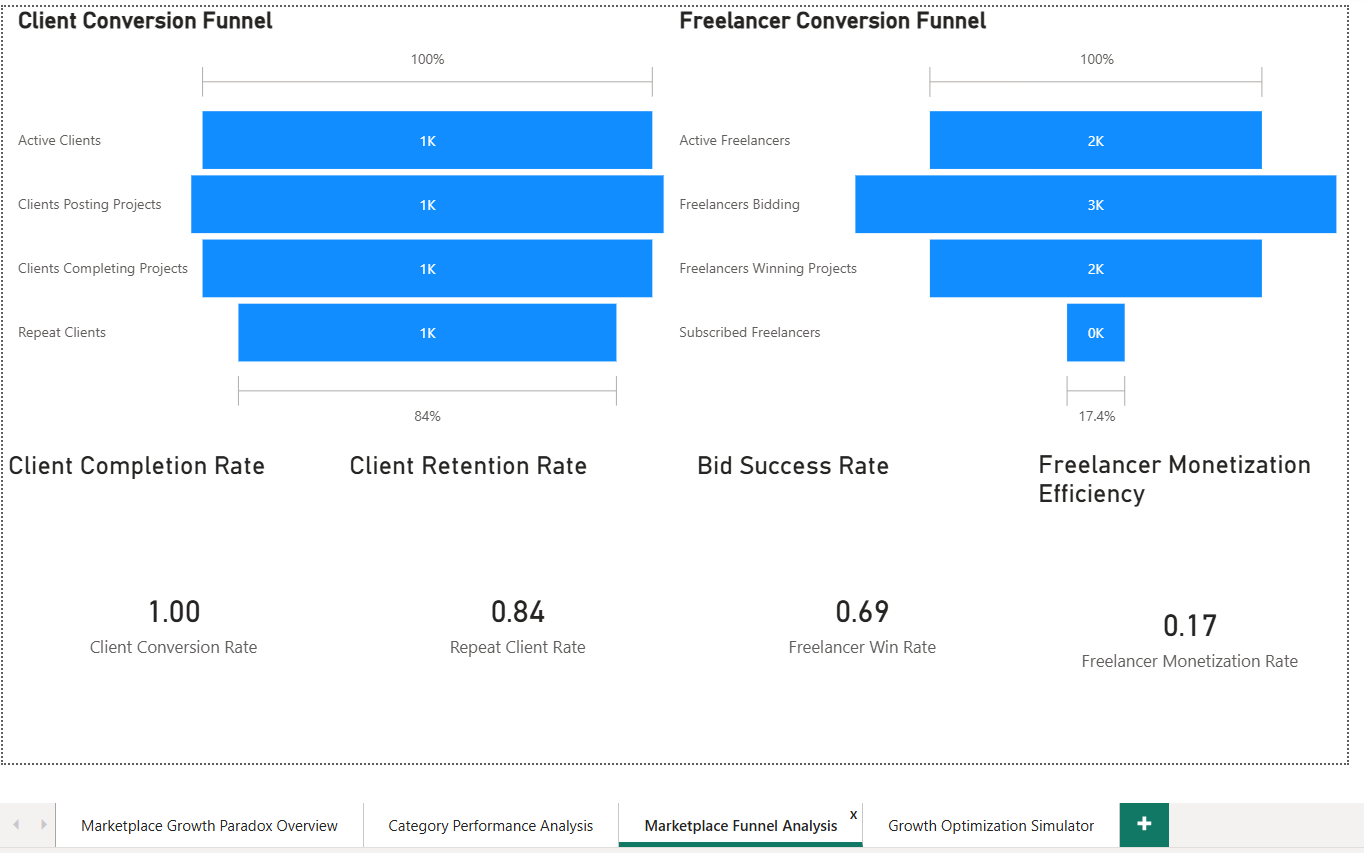

The dashboard page shown, as its layout file describes it:
{"tool":"powerbi","page":{"name":"Marketplace Funnel Analysis","canvas":[1280,720],"ordinal":2},"visuals":[{"type":"funnel","title":"Client Conversion Funnel","fields":{"Y":["transactions.Active Clients","projects.Clients Posting Projects","transactions.Clients Completing Projects","transactions.Repeat Clients"]},"box":[9.6,0,629.8,411.7],"z":0},{"type":"funnel","title":"Freelancer Conversion Funnel","fields":{"Y":["transactions.Active Freelancers","bids.Freelancers Bidding","transactions.Freelancers Winning Projects","subscriptions.Subscribed Freelancers"]},"box":[639.5,0,640.8,411.7],"z":1000},{"type":"card","title":"Client Completion Rate","fields":{"Values":["transactions.Client Conversion Rate"]},"box":[0,422.6,325.2,297.8],"z":2000},{"type":"card","title":"Client Retention Rate","fields":{"Values":["transactions.Repeat Client Rate"]},"box":[325.2,422.6,330.7,297.8],"z":3000},{"type":"card","title":"Bid Success Rate","fields":{"Values":["transactions.Freelancer Win Rate"]},"box":[655.9,422.6,325.2,297.8],"z":4000},{"type":"card","title":"Freelancer Monetization Efficiency","fields":{"Values":["transactions.Freelancer Monetization Rate"]},"box":[981.1,421.3,299.1,299.1],"z":5000}]}

Visuals, with their boxes on the page's 1280x720 design canvas (x1, y1, x2, y2). These are canvas units, not pixel positions in the 1364x853 screenshot, which may show the page scaled, cropped or inside an application window:
"Client Conversion Funnel" funnel: bbox(10, 0, 639, 412)
"Freelancer Conversion Funnel" funnel: bbox(640, 0, 1280, 412)
"Client Completion Rate" card: bbox(0, 423, 325, 720)
"Client Retention Rate" card: bbox(325, 423, 656, 720)
"Bid Success Rate" card: bbox(656, 423, 981, 720)
"Freelancer Monetization Efficiency" card: bbox(981, 421, 1280, 720)
